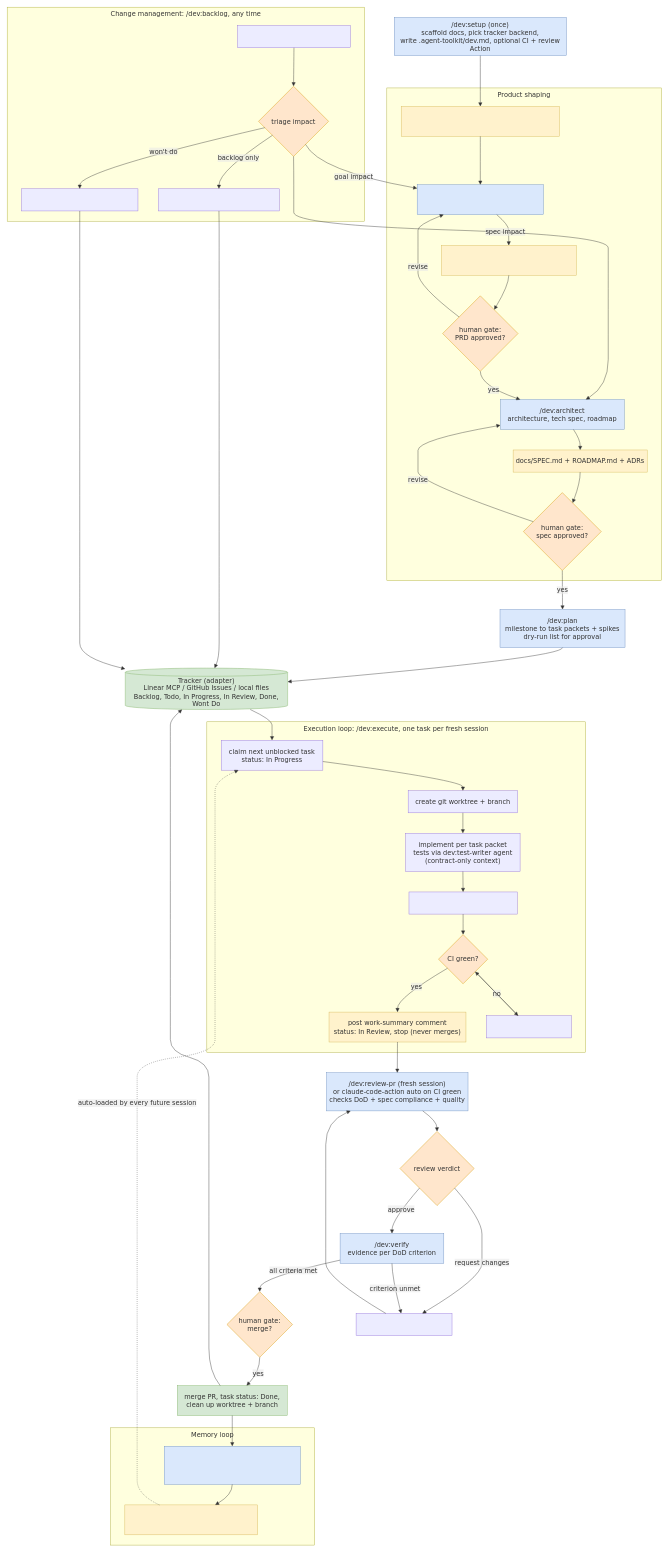
The diagram is 669 pixels wide and 1552 high, and some of its shapes have lost their labels. Here are the shapes that lost their labels. From the top down, the centre of each, then its label:
point 293,36: new request / priority change
point 480,121: research/raw/ human research dump: pdf, md, images, wiki
point 79,199: close task: Wont Do + rationale
point 218,199: create / reprioritize / split tasks
point 480,199: /dev:discover organize research + interview user
point 508,260: docs/PRD.md goal, why, customer value, north star
point 463,903: push, open PR linked to task
point 528,1026: fix, push to same PR
point 404,1324: apply review fixes, push
point 232,1465: /dev:retro mine PR threads, CI history, tracker comments, session transcripts
point 191,1519: promote learnings to .agent-toolkit/rules/ (imported by dev.md)
